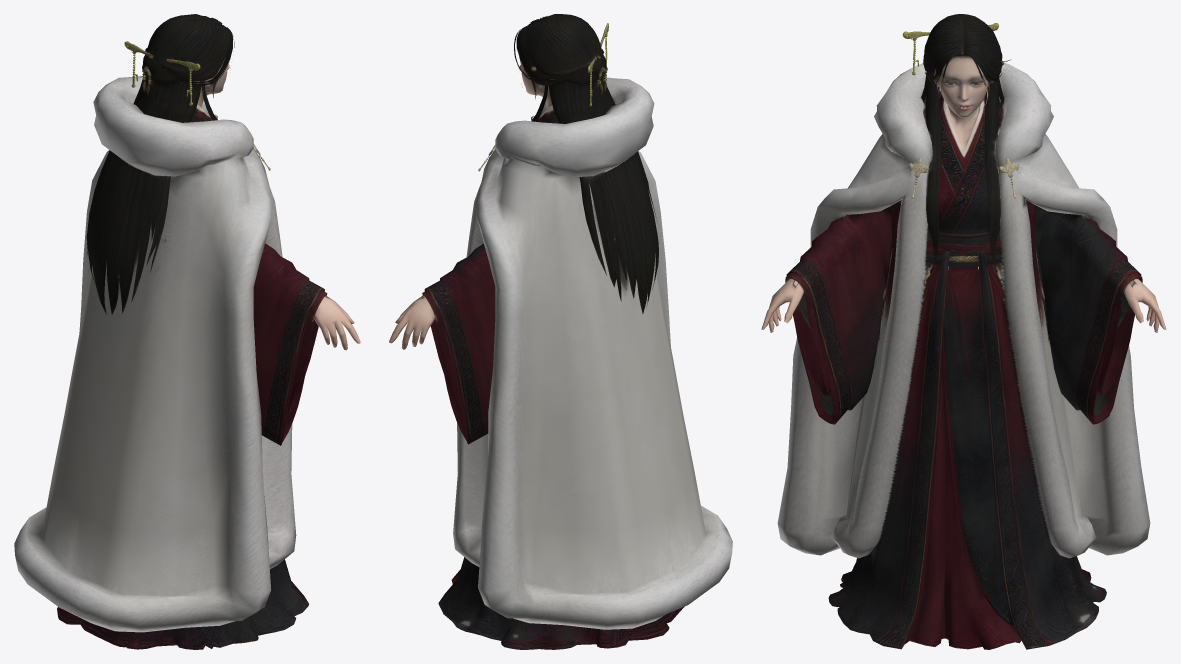
File: snow-robe.glb
3 views of the same model, side by side, from view 1: azimuth 30°, elevation 25°; view 2: azimuth 150°, elevation 25°; view 3: azimuth 270°, elevation 25° (orthographic).
Parts seen in each view (by area): view 1: tripo_20439374_0dfe_4ba8_9b71_21e8c1140bcc; view 2: tripo_20439374_0dfe_4ba8_9b71_21e8c1140bcc; view 3: tripo_20439374_0dfe_4ba8_9b71_21e8c1140bcc.
Boxes of the visible parts, box(x1,y1,x2,y2) form: tripo_20439374_0dfe_4ba8_9b71_21e8c1140bcc: box(14, 14, 360, 649); tripo_20439374_0dfe_4ba8_9b71_21e8c1140bcc: box(389, 14, 732, 649); tripo_20439374_0dfe_4ba8_9b71_21e8c1140bcc: box(761, 14, 1166, 649).
Size of the model in its own units: 0.4282 by 0.9995 by 0.6206.
Materials: 1 (1 with a texture image).
